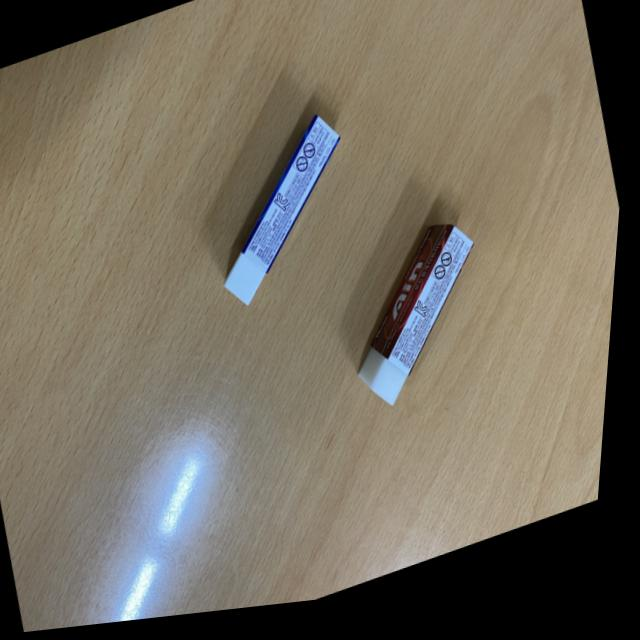blue: (187, 111, 384, 328)
red: (327, 216, 517, 433)
